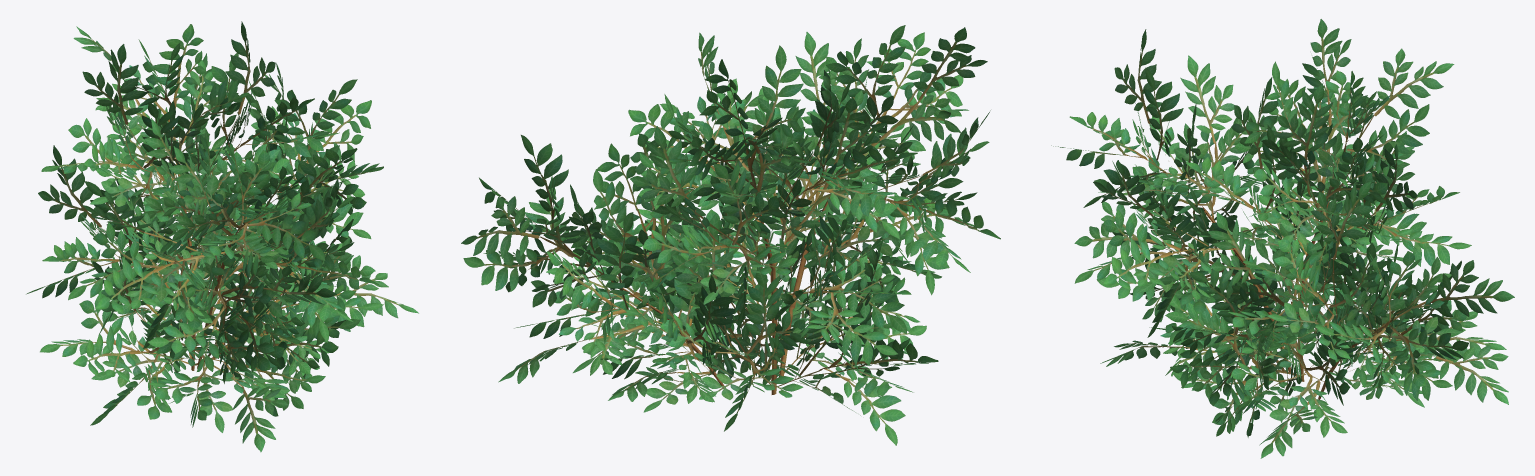
File: MS_ShrubTree04.fbx
The picture shows the model from 3 angles, left to right: view 1: azimuth 30°, elevation 25°; view 2: azimuth 150°, elevation 25°; view 3: azimuth 270°, elevation 25°; orthographic projection. The views are drawn at different scales.
Visible parts, largest first — view 1: MS_ShrubTree04; view 2: MS_ShrubTree04; view 3: MS_ShrubTree04.
Part boxes in pixels (x1,y1,x2,y2): MS_ShrubTree04: (26,21,418,452); MS_ShrubTree04: (461,25,1000,445); MS_ShrubTree04: (1051,19,1514,458).
Size of the model in its own units: 401 by 372 by 431.
